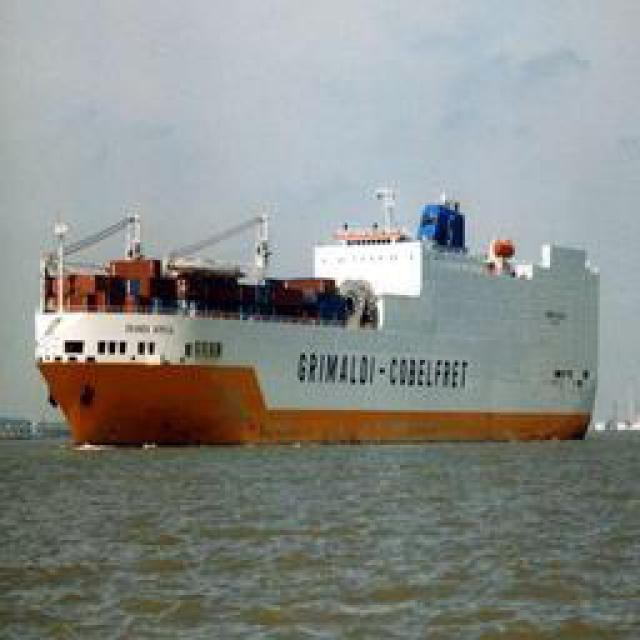Ship: (33, 191, 640, 454)
